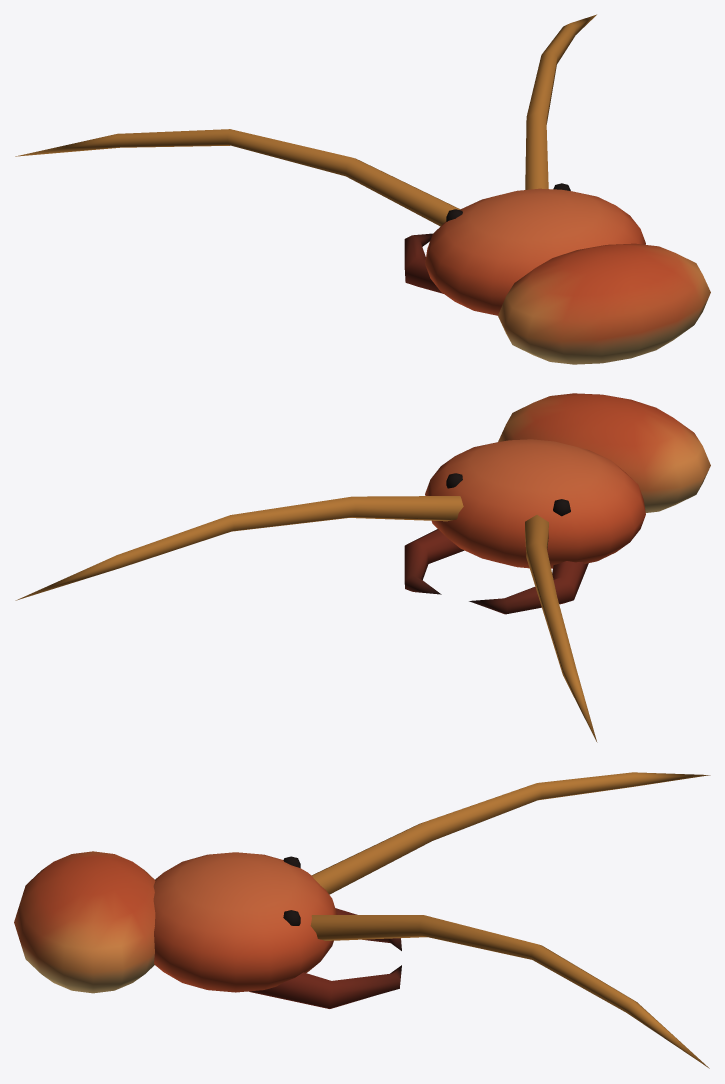
Rendered from Mukade_Head.fbx.
The picture shows the model from 3 angles, top to bottom: view 1: azimuth 30°, elevation 25°; view 2: azimuth 150°, elevation 25°; view 3: azimuth 270°, elevation 25°; orthographic projection. The views are drawn at different scales.
Visible parts, largest first — view 1: Mukade_Head; view 2: Mukade_Head; view 3: Mukade_Head.
Part boxes in pixels (x1,y1,x2,y2): Mukade_Head: (15, 14, 710, 364); Mukade_Head: (15, 393, 710, 742); Mukade_Head: (14, 772, 710, 1068).
Size of the model in its own units: 0.88 by 0.152 by 0.88.
